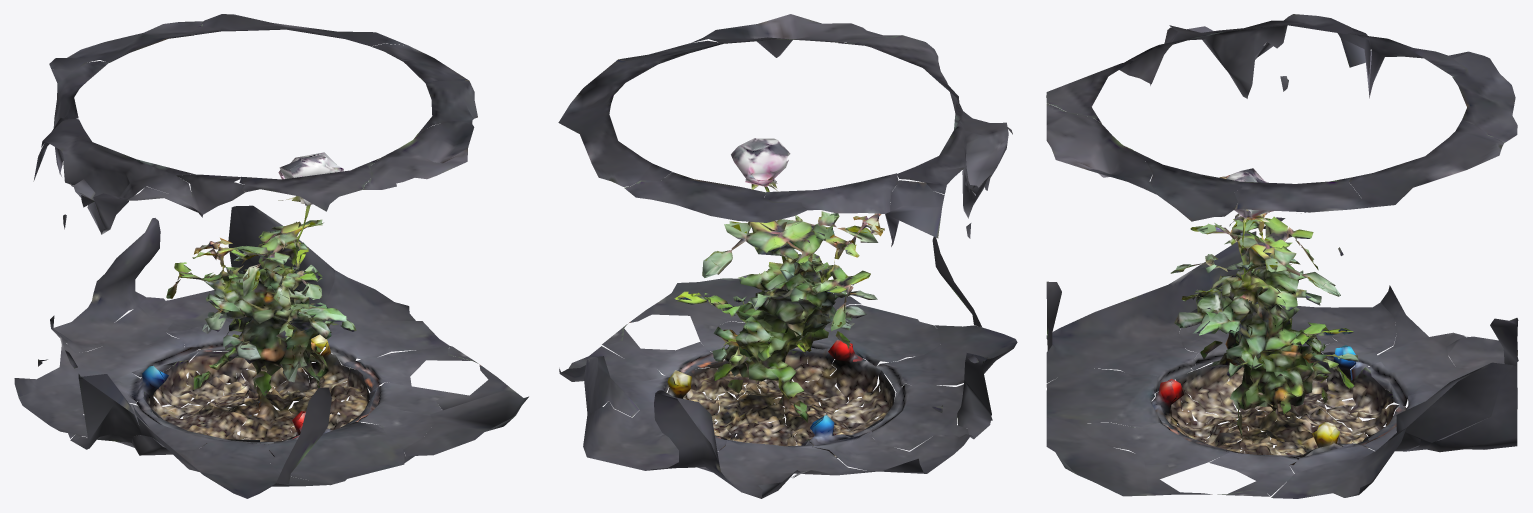
3 views of the same model, side by side, from view 1: azimuth 30°, elevation 25°; view 2: azimuth 150°, elevation 25°; view 3: azimuth 270°, elevation 25° (orthographic). The views are drawn at different scales.
Parts seen in each view (by area): view 1: _6D18154B_1934_4A16_85DB_F9DC3EBC7159; view 2: _6D18154B_1934_4A16_85DB_F9DC3EBC7159; view 3: _6D18154B_1934_4A16_85DB_F9DC3EBC7159.
Part boxes in pixels (x1=…): _6D18154B_1934_4A16_85DB_F9DC3EBC7159: x1=14, y1=14, x2=528, y2=498; _6D18154B_1934_4A16_85DB_F9DC3EBC7159: x1=558, y1=14, x2=1017, y2=498; _6D18154B_1934_4A16_85DB_F9DC3EBC7159: x1=1046, y1=14, x2=1518, y2=498.
Size of what is drawn, in the model's own units: 1.42 by 1.17 by 1.48.
Materials: 1 (1 with a texture image).
